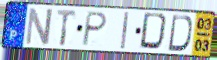D: (138, 12, 171, 53), (166, 14, 193, 53)
I: (119, 11, 130, 51)
N: (23, 6, 54, 46)
P: (80, 10, 109, 47)
T: (56, 8, 78, 47)
